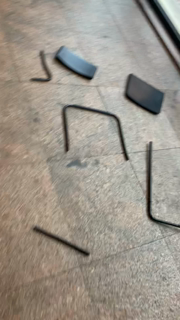Back: (54, 43, 99, 83)
C pipe: (61, 103, 131, 163)
L pipe: (29, 49, 54, 85)
Seat: (122, 73, 166, 118)
i pipe: (33, 225, 92, 259)
